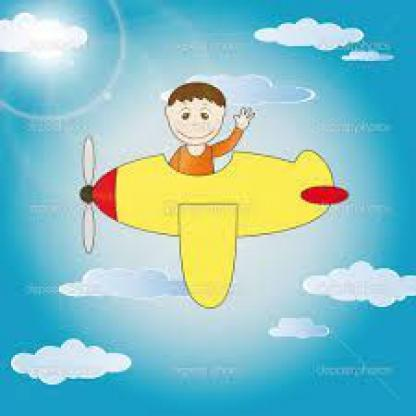CIV_Plane: (59, 135, 342, 306)
